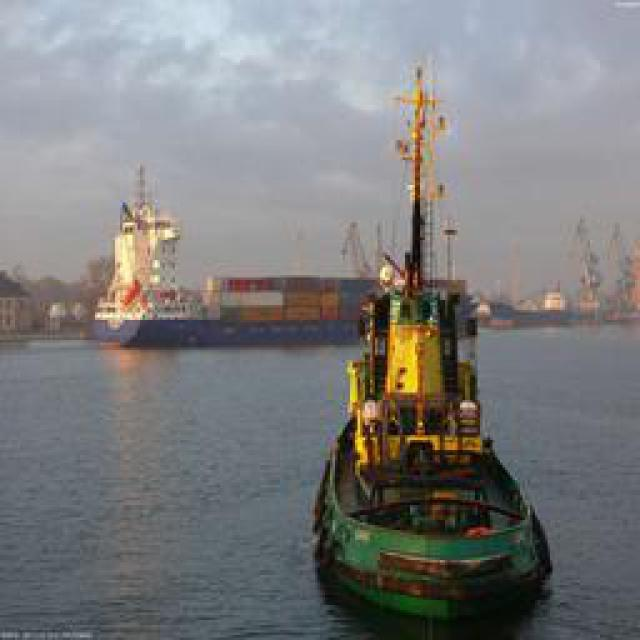Ship: (317, 180, 550, 625)
